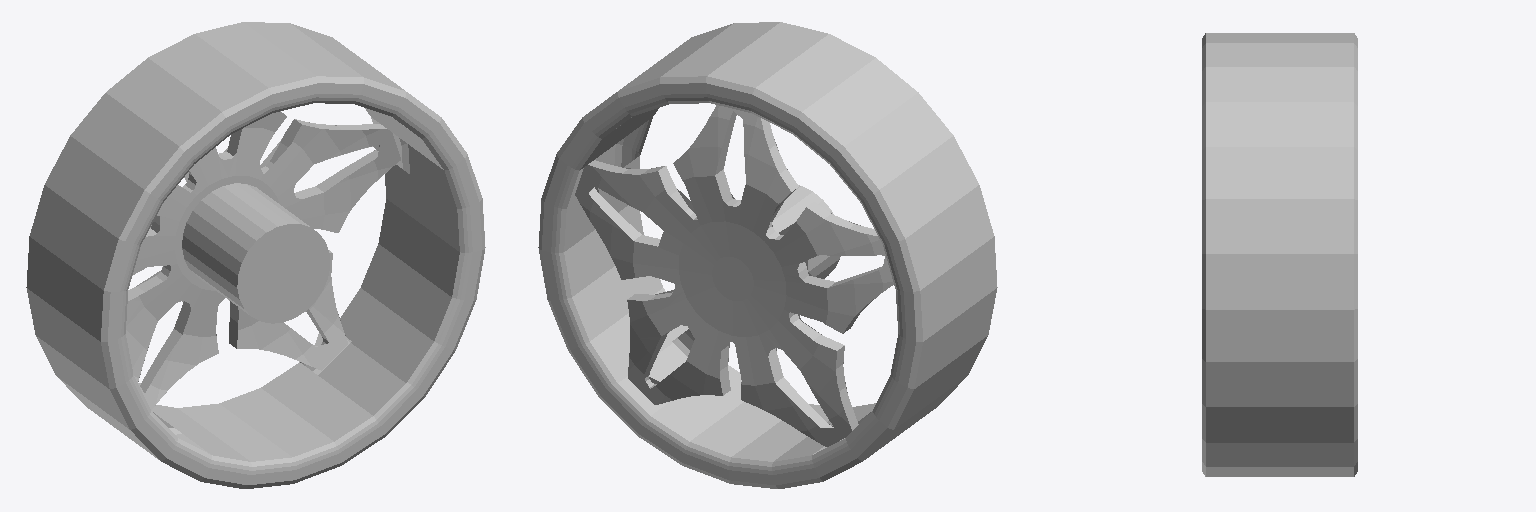
The model's file is LlantaEstrella_M_Obj.obj.
The picture shows the model from 3 angles: view 1: azimuth 30°, elevation 25°; view 2: azimuth 150°, elevation 25°; view 3: azimuth 270°, elevation 25°; orthographic projection.
Visible parts, largest first — view 1: Rueda_Estrella; view 2: Rueda_Estrella; view 3: Rueda_Estrella.
Part boxes in pixels (x1,y1,x2,y2): Rueda_Estrella: (26,22,485,488); Rueda_Estrella: (538,22,997,488); Rueda_Estrella: (1202,33,1357,476).
Bounding box in the file's own units: 5.33 × 5.32 × 1.88.